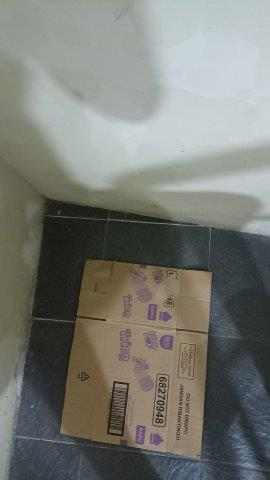kardus: (63, 261, 211, 458)
